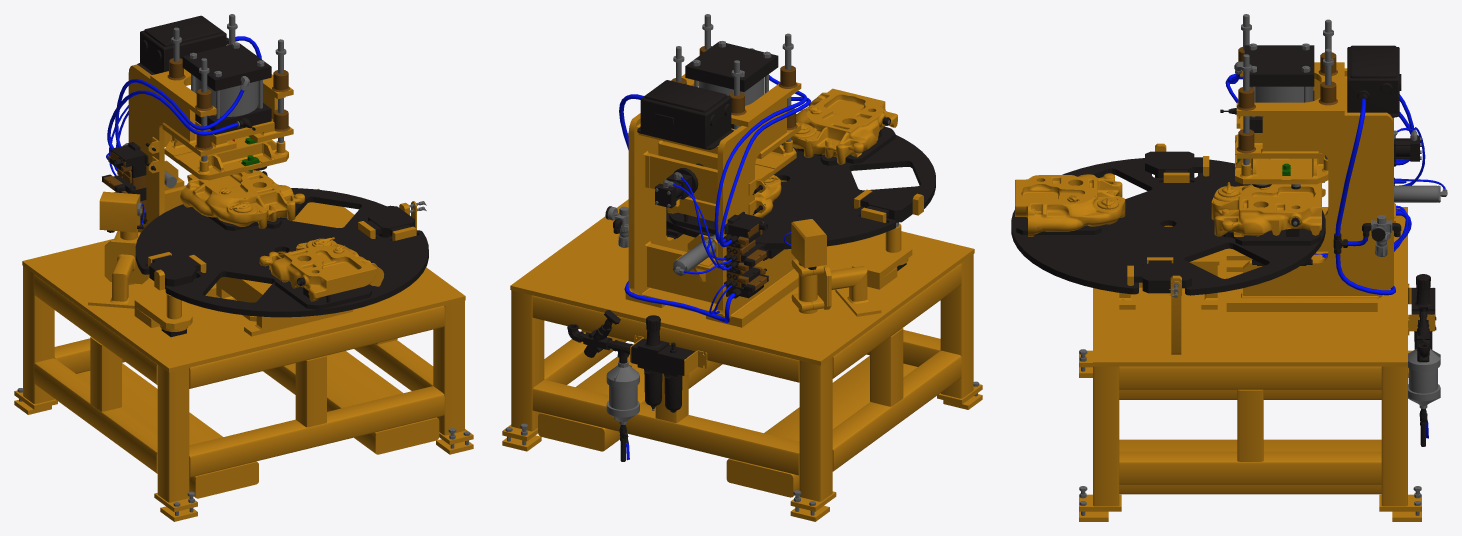
The model's file is 單一加工機_UV.FBX.
3 renders of one model, left to right at view 1: azimuth 30°, elevation 25°; view 2: azimuth 150°, elevation 25°; view 3: azimuth 270°, elevation 25°, orthographic. The views are drawn at different scales.
Visible parts, largest first — view 1: 單一加工機_桌子, 單一加工機_加工機, 單一加工機_圓盤, 單一加工機_工件1, 單一加工機_工件2, 單一加工機_升降台; view 2: 單一加工機_桌子, 單一加工機_加工機, 單一加工機_圓盤, 單一加工機_工件2, 單一加工機_升降台, 單一加工機_工件1; view 3: 單一加工機_桌子, 單一加工機_加工機, 單一加工機_圓盤, 單一加工機_工件2, 單一加工機_工件1, 單一加工機_升降台.
Boxes of the visible parts, x1,y1,x2,y2 form: 單一加工機_桌子: (14,188,473,521); 單一加工機_加工機: (102,15,293,296); 單一加工機_圓盤: (135,188,428,317); 單一加工機_工件1: (180,170,304,228); 單一加工機_工件2: (259,237,384,301); 單一加工機_升降台: (164,14,288,180); 單一加工機_桌子: (502,133,982,521); 單一加工機_加工機: (605,41,810,327); 單一加工機_圓盤: (666,114,935,260); 單一加工機_工件2: (791,88,897,164); 單一加工機_升降台: (673,14,796,182); 單一加工機_工件1: (667,175,781,221); 單一加工機_桌子: (1079,143,1440,521); 單一加工機_加工機: (1220,43,1447,311); 單一加工機_圓盤: (1011,158,1325,295); 單一加工機_工件2: (1015,173,1125,236); 單一加工機_工件1: (1211,182,1321,237); 單一加工機_升降台: (1235,14,1333,189).
Size of the model in its own units: 144 by 174 by 169.
